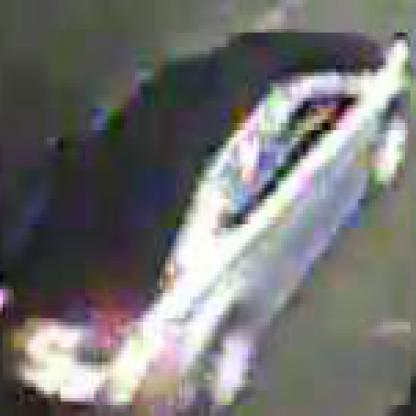car: (4, 34, 414, 410)
